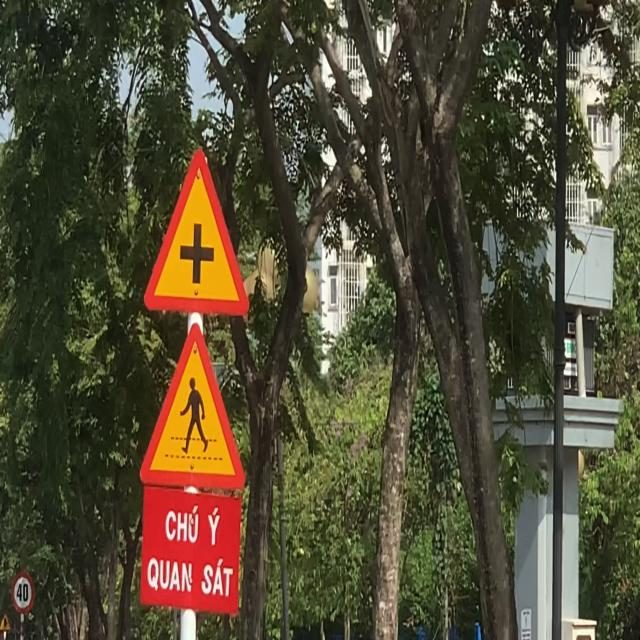Duong giao nhau: (137, 133, 252, 328)
Nguoi di bo cat ngang: (137, 315, 247, 495)
Toc do toi da: (11, 570, 35, 614)
